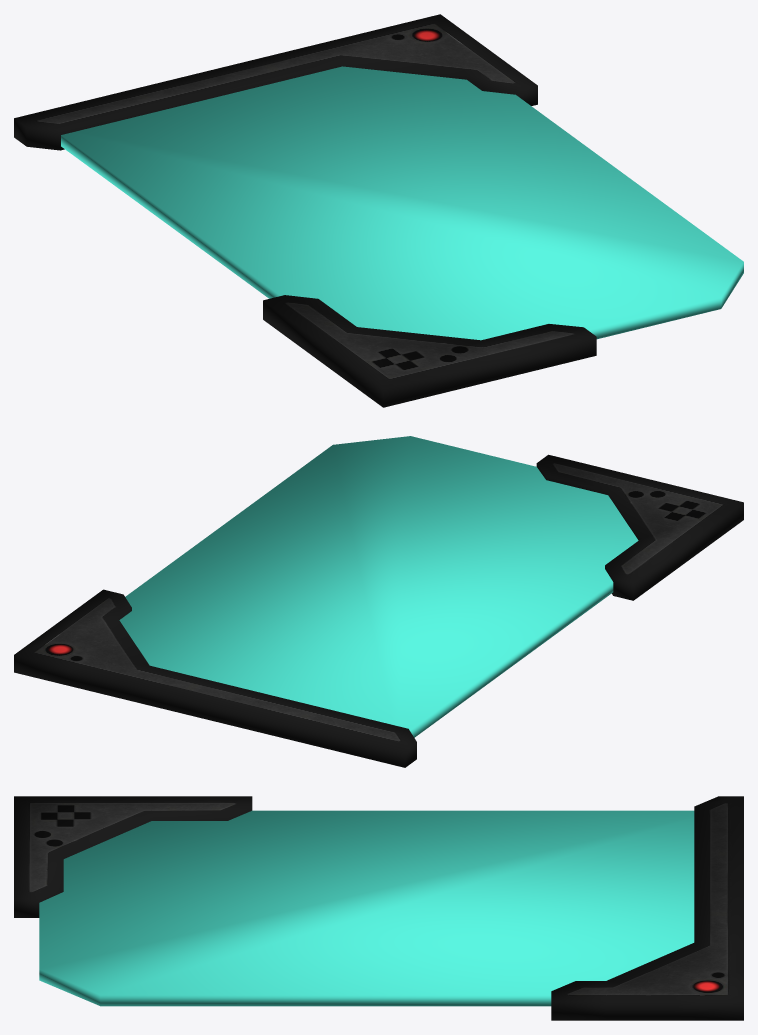
The model's file is tablet.gltf.
The picture shows the model from 3 angles, top to bottom: view 1: azimuth 30°, elevation 25°; view 2: azimuth 150°, elevation 25°; view 3: azimuth 270°, elevation 25°; orthographic projection. The views are drawn at different scales.
Visible parts, largest first — view 1: Tablet_Low (×2); view 2: Tablet_Low (×2); view 3: Tablet_Low (×2).
Boxes of the visible parts, left/top/right/bottom form: Tablet_Low (×2): left=14, top=14, right=743, bottom=407; Tablet_Low (×2): left=14, top=436, right=743, bottom=767; Tablet_Low (×2): left=14, top=796, right=743, bottom=1020.
Bounding box in the file's own units: 1.33 × 0.0572 × 2.
Materials: 3 (3 with a texture image).
